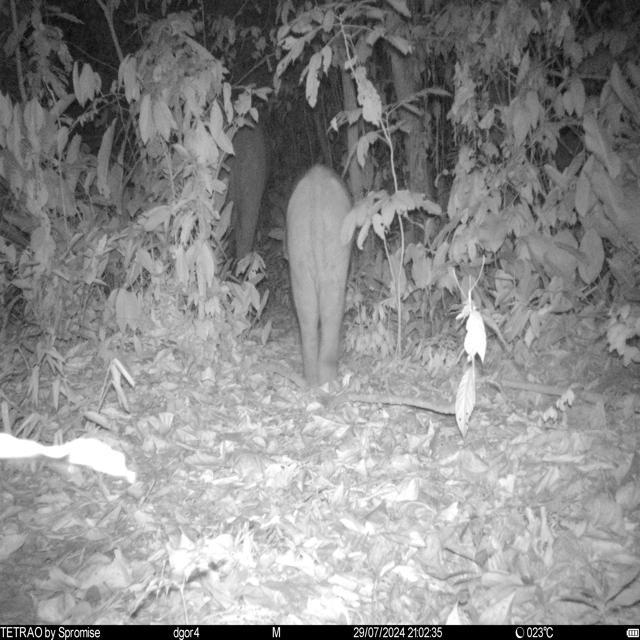calf: (288, 166, 354, 394)
elephant: (217, 117, 270, 266)
